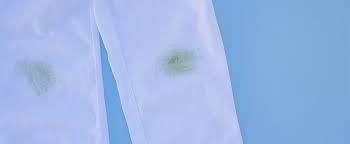earth: (25, 66, 57, 90), (161, 52, 190, 75)
